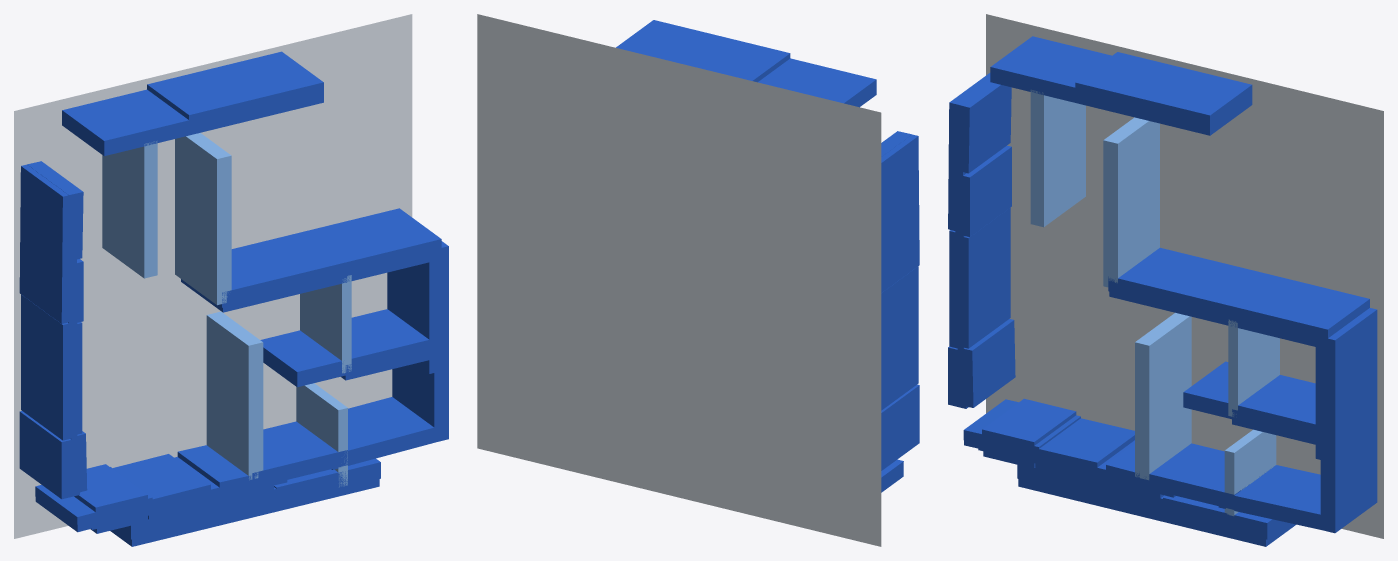
Rendered from a815ebe6-732f-4d10-8645-af75928b7c32.obj.
The picture shows the model from 3 angles, left to right: view 1: azimuth 30°, elevation 25°; view 2: azimuth 150°, elevation 25°; view 3: azimuth 330°, elevation 25°; orthographic projection.
Bounding box in the file's own units: 16.4 × 16.85 × 3.05.
